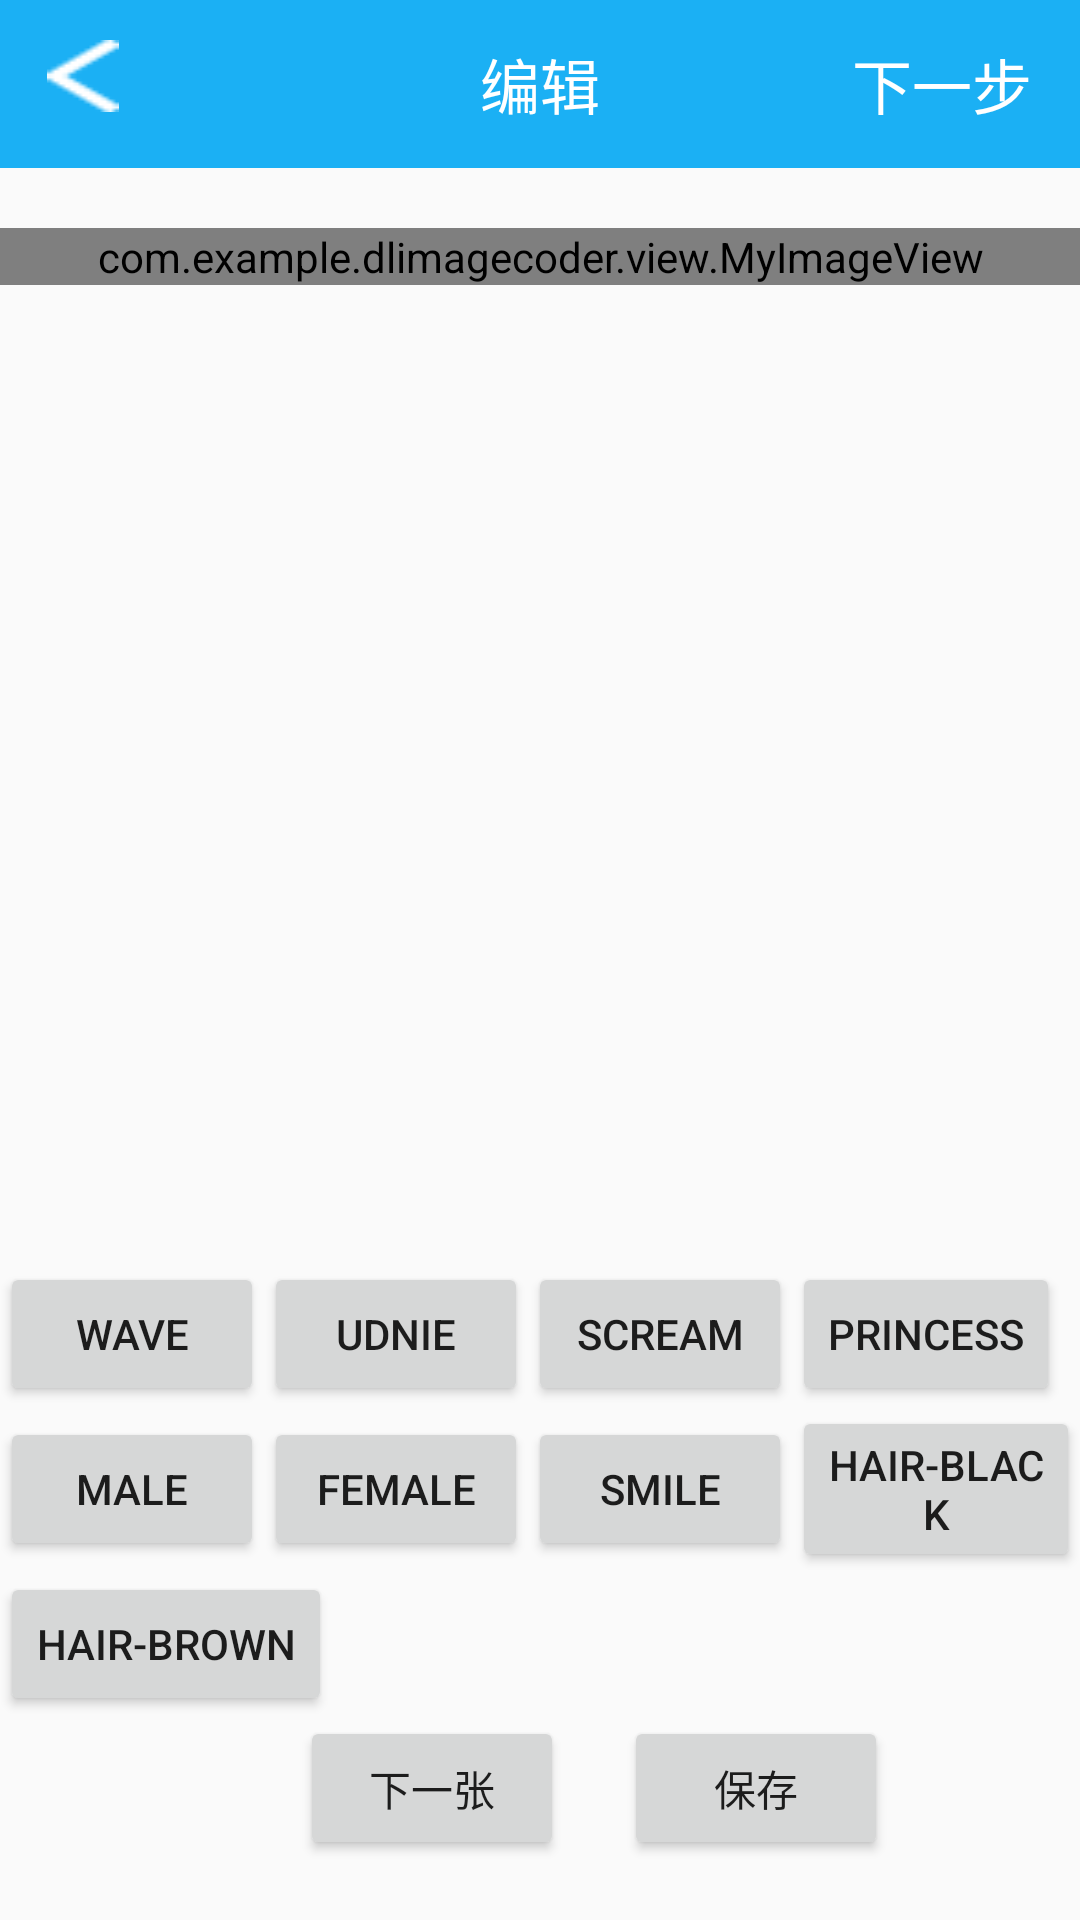

Icon click points for this 1080×1920 phone screenshot, format (x=x, y=y):
back: (x=83, y=76)
